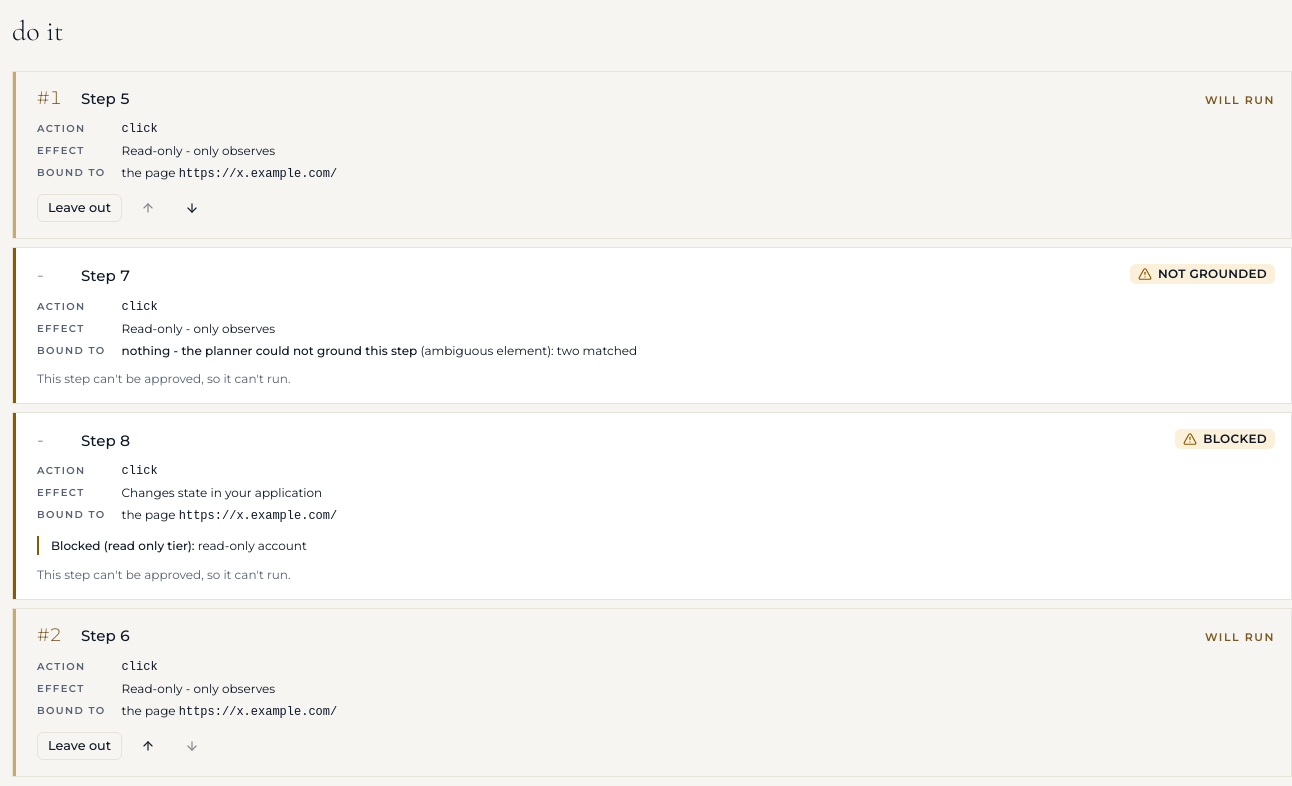
it: PlanReview › states every exclusion and disables approval when nothing is selected
Click the button with aria-label "Leave out:" at (80, 208), box [37,194,122,222]
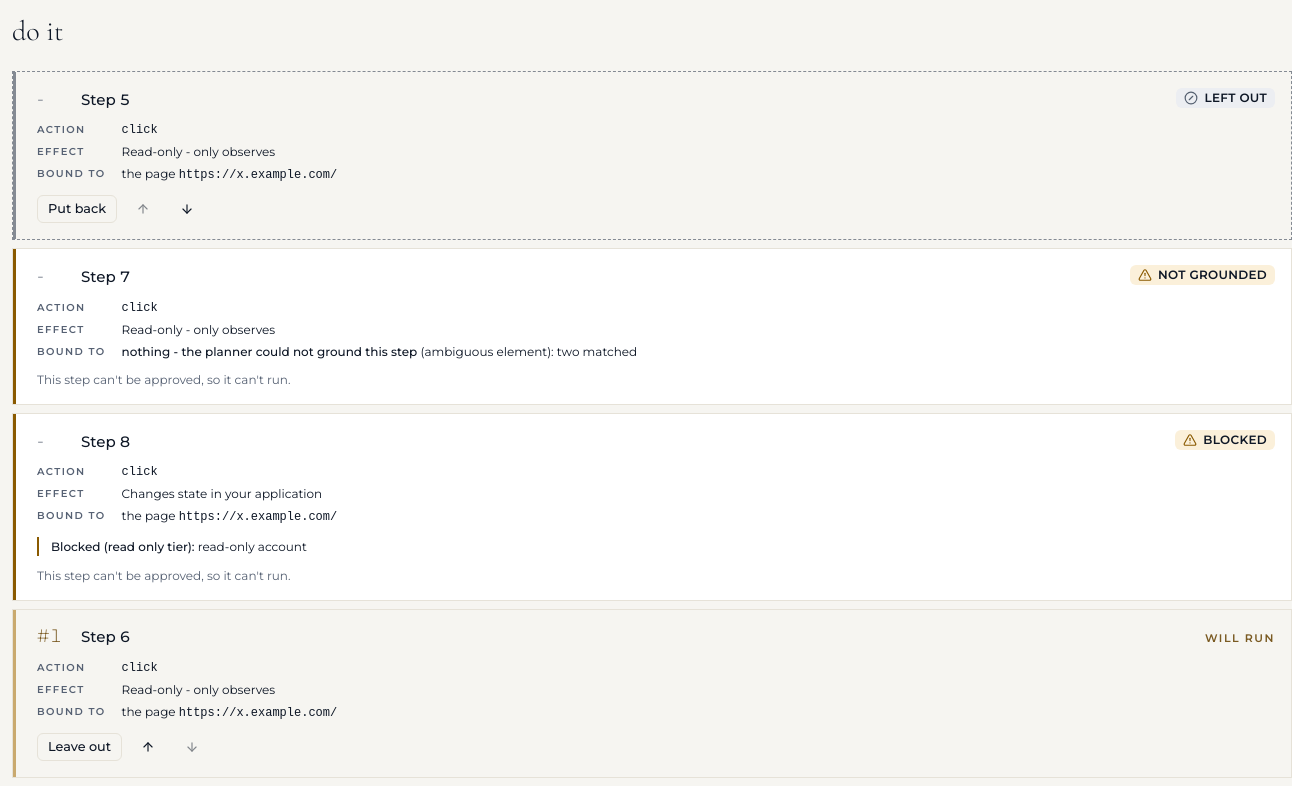
Click the button with aria-label "Leave out:" at (80, 747), box [37,733,122,761]
(page scrolled)
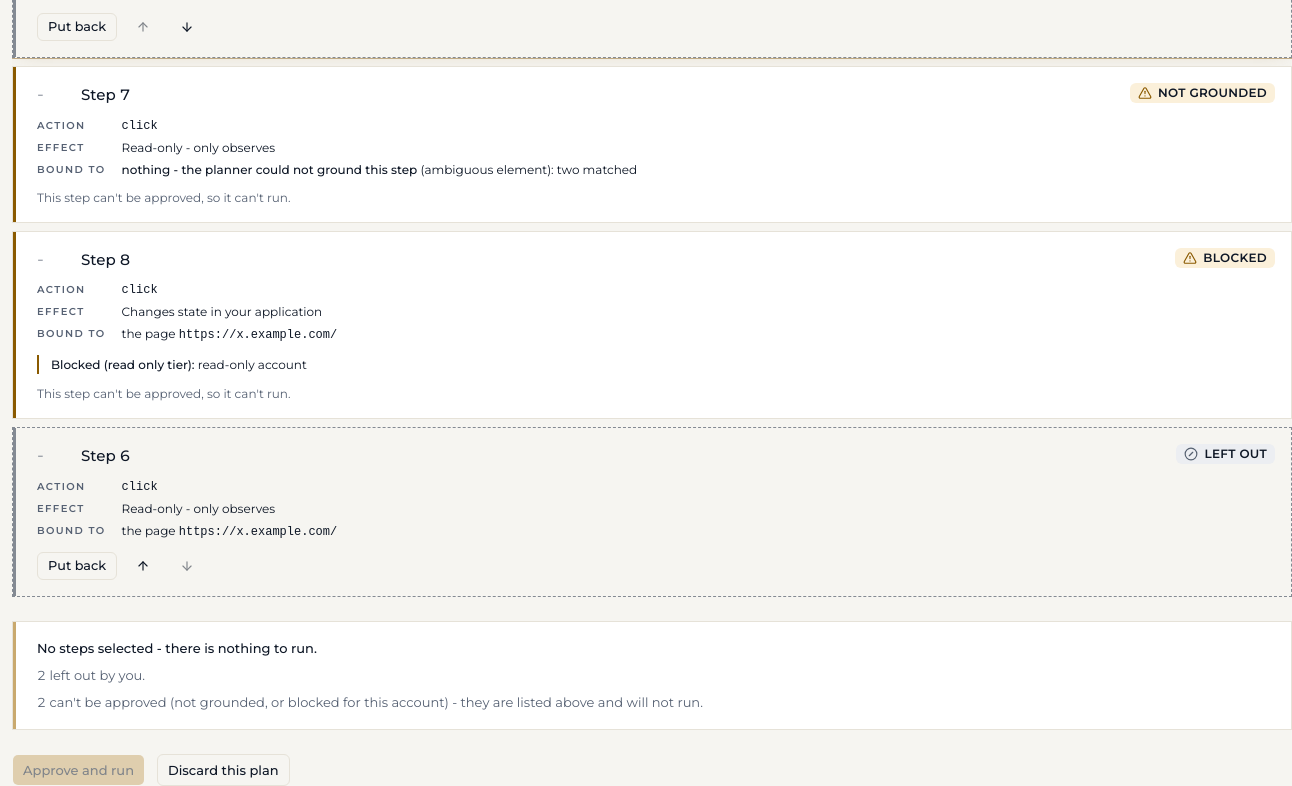
Now the message with test id "approval-summary" shows "No steps selected", box [37,640,317,656]
Now the button "Approve and run" is disabled, box [12,754,145,785]
